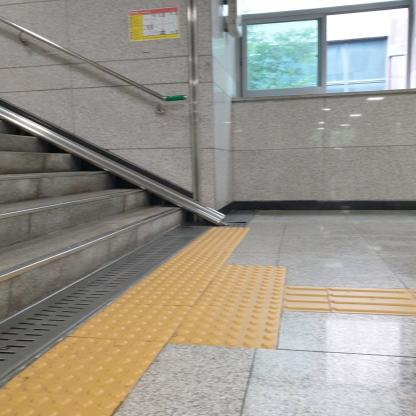go: (326, 286, 416, 316)
stop: (2, 337, 167, 400), (67, 303, 193, 342), (167, 306, 281, 349), (193, 282, 284, 310), (112, 280, 210, 306)
